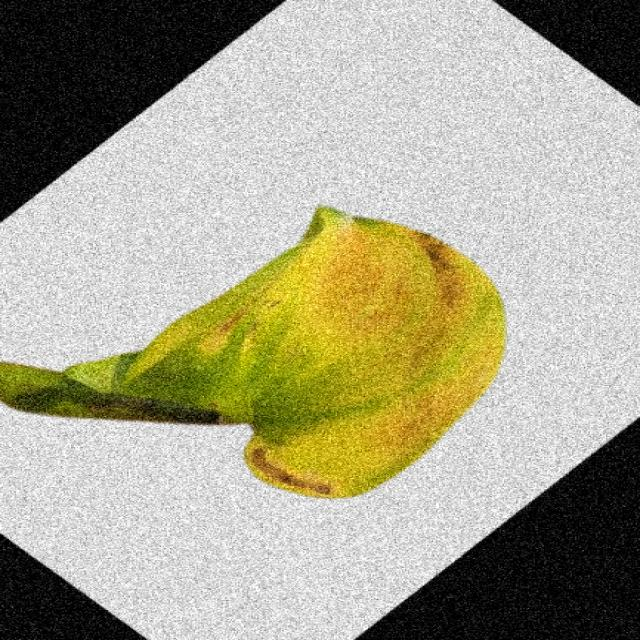daun berpenyakit kuning: (0, 206, 505, 497)
